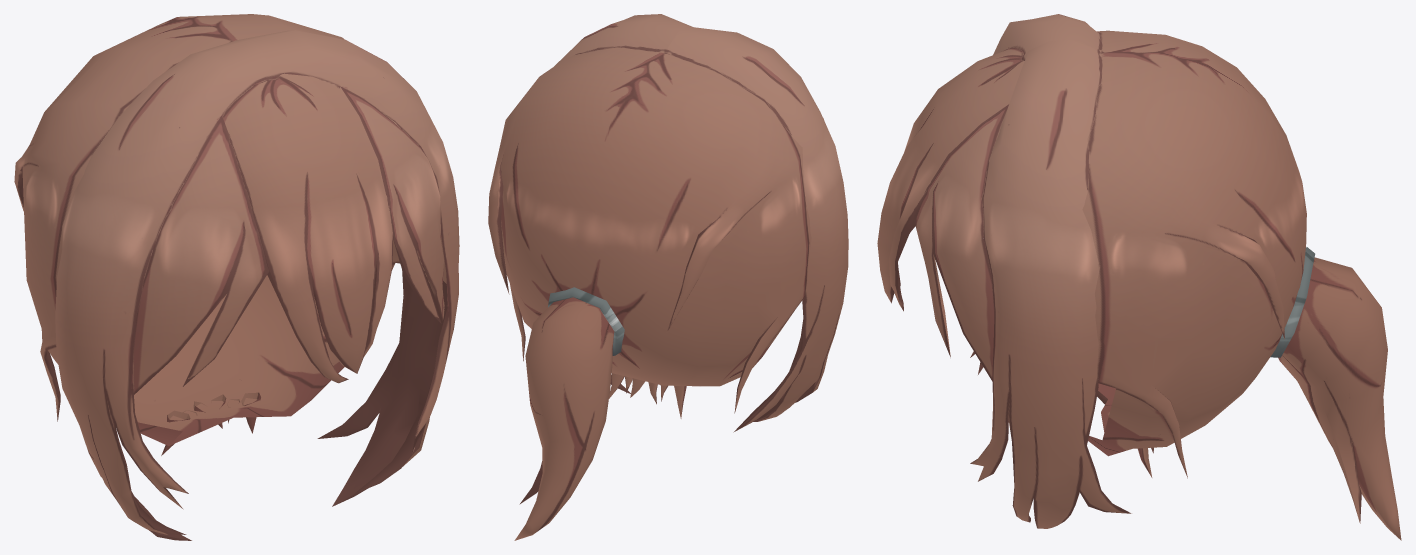
File: hairtail.glb
3 views of the same model, side by side, from view 1: azimuth 30°, elevation 25°; view 2: azimuth 150°, elevation 25°; view 3: azimuth 270°, elevation 25° (orthographic). The views are drawn at different scales.
Visible parts, largest first — view 1: hairtail; view 2: hairtail; view 3: hairtail.
Part boxes in pixels (x1,y1,x2,y2): hairtail: [14, 14, 459, 540]; hairtail: [488, 14, 848, 540]; hairtail: [877, 14, 1401, 540].
Size of the model in its own units: 0.936 by 1.18 by 1.15.
1 material, 1 textured.
